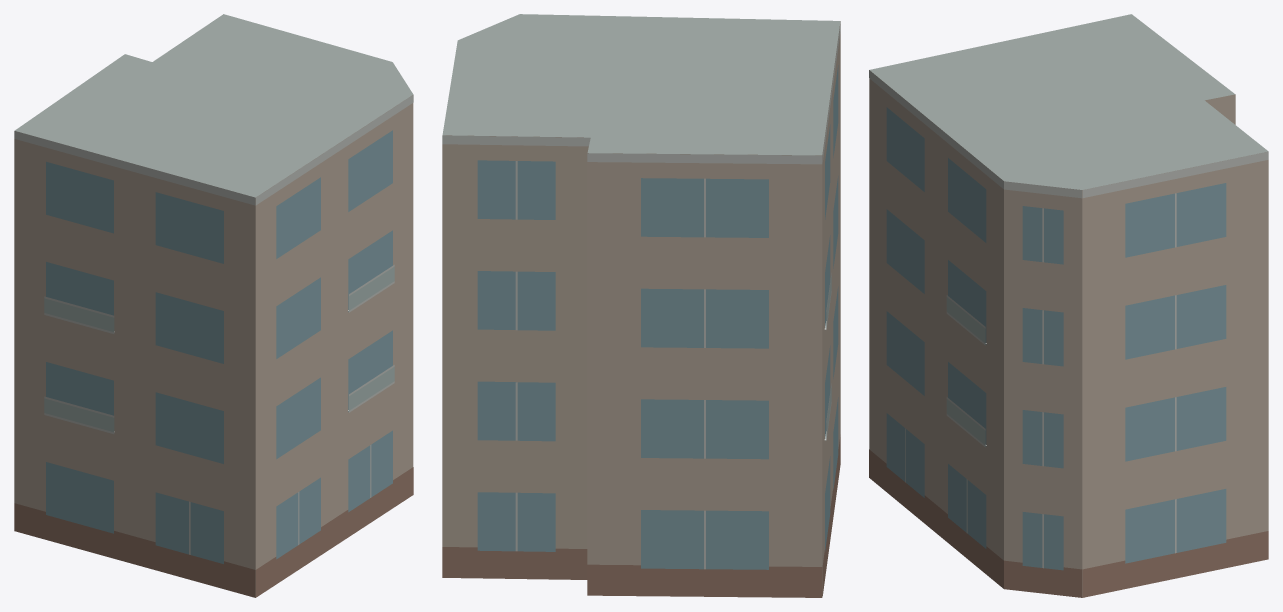
Rendered from survey-upis-32763856.glb.
3 renders of one model, left to right at view 1: azimuth 30°, elevation 25°; view 2: azimuth 150°, elevation 25°; view 3: azimuth 270°, elevation 25°, orthographic. The views are drawn at different scales.
Visible parts, largest first — view 1: survey-upis-32763856.tmp; view 2: survey-upis-32763856.tmp; view 3: survey-upis-32763856.tmp.
Part boxes in pixels (<box>): survey-upis-32763856.tmp: <box>14,14,413,597</box>; survey-upis-32763856.tmp: <box>442,14,840,597</box>; survey-upis-32763856.tmp: <box>869,14,1268,597</box>.
Size of the model in its own units: 11.17 by 12.05 by 10.71.
